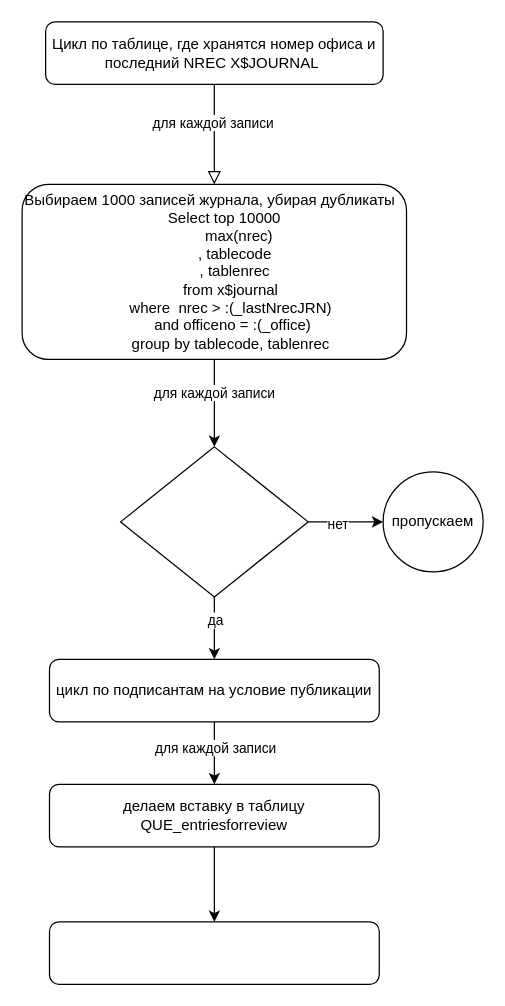
Some shapes in this 505 by 1006 pixel diagram are drawn without their labels. The centre of each missing label's shape, as x and y in pixels:
Далее работает существующий функционал предочереди и очереди: the point at 213,952
удобвлетворяет условиям публикации?: the point at 213,521
